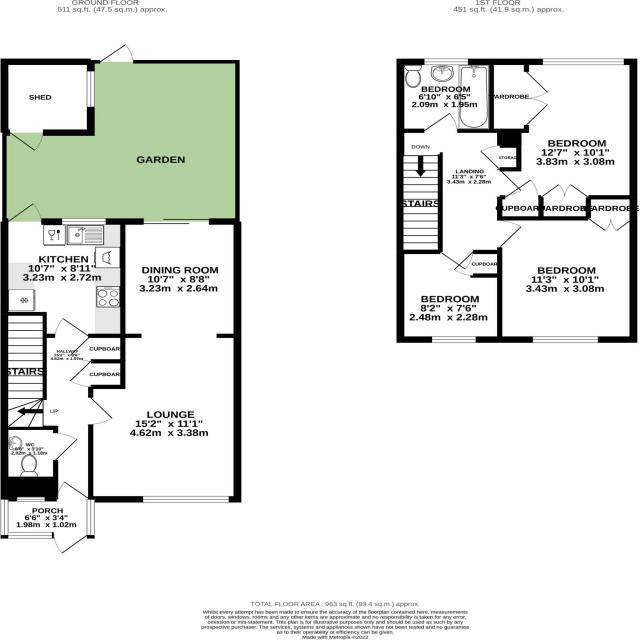DOOR: (86, 395, 117, 427), (51, 530, 89, 556), (4, 201, 43, 226), (54, 479, 94, 503), (8, 128, 45, 153), (496, 218, 524, 251), (51, 431, 80, 462), (97, 42, 136, 65), (436, 249, 475, 272), (53, 316, 90, 340), (422, 111, 460, 134), (497, 168, 525, 198), (478, 144, 503, 172)
ROOM: (88, 215, 245, 505), (478, 58, 638, 221), (496, 195, 639, 344), (0, 199, 128, 339), (394, 249, 504, 343)
WINDOW: (141, 495, 231, 504), (541, 57, 626, 66), (530, 335, 600, 344), (422, 57, 471, 67), (60, 217, 107, 227), (84, 70, 96, 108), (84, 500, 96, 538), (429, 335, 478, 344), (0, 498, 10, 539), (6, 531, 54, 539)
